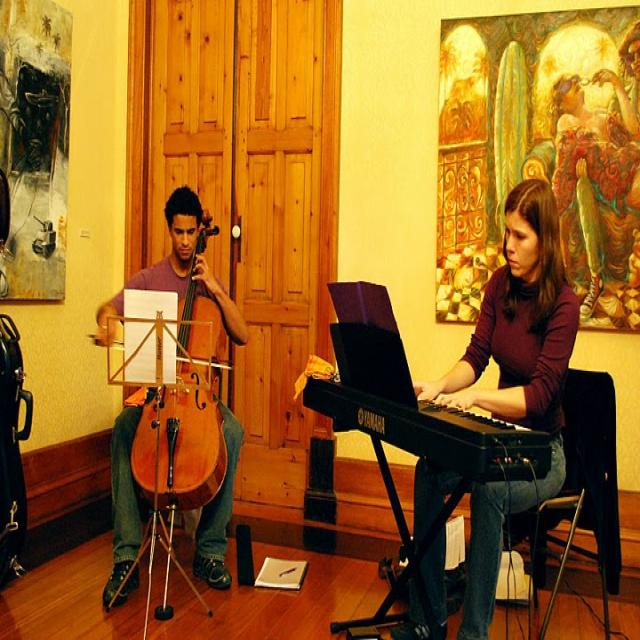cello: (129, 210, 242, 514)
